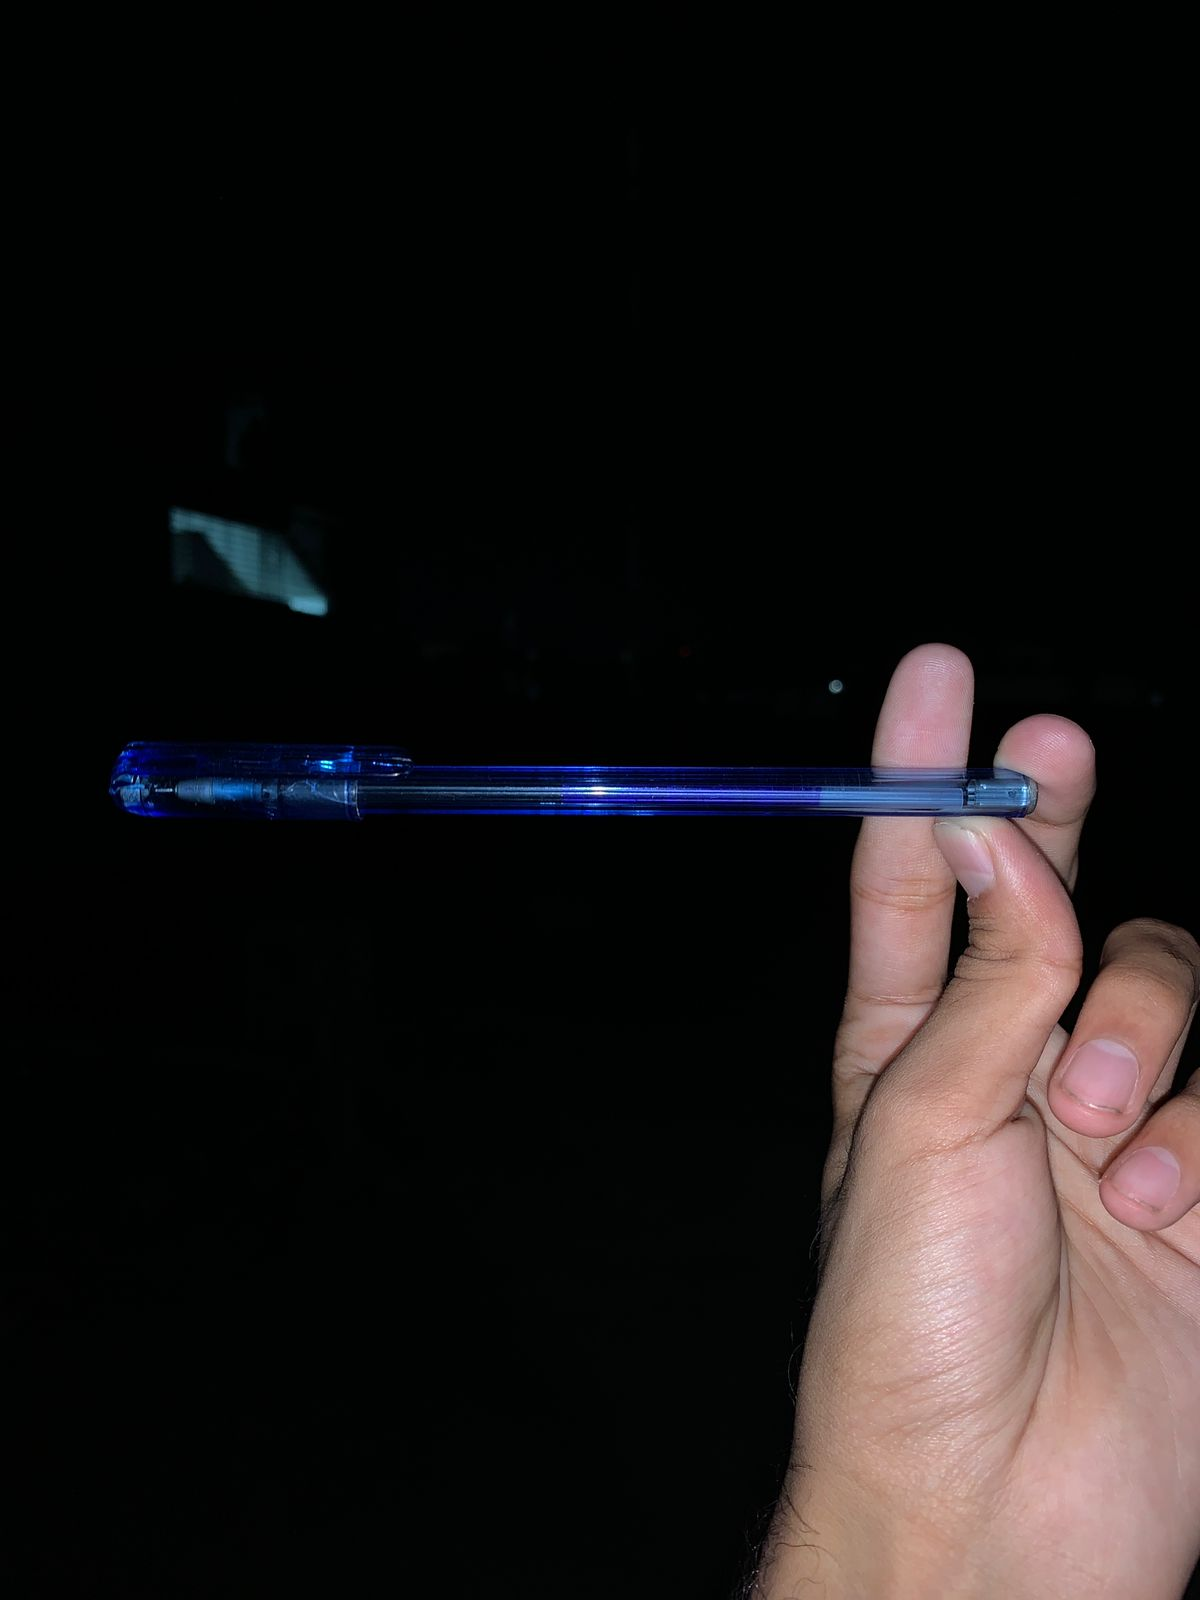pen: (81, 646, 1095, 939)
